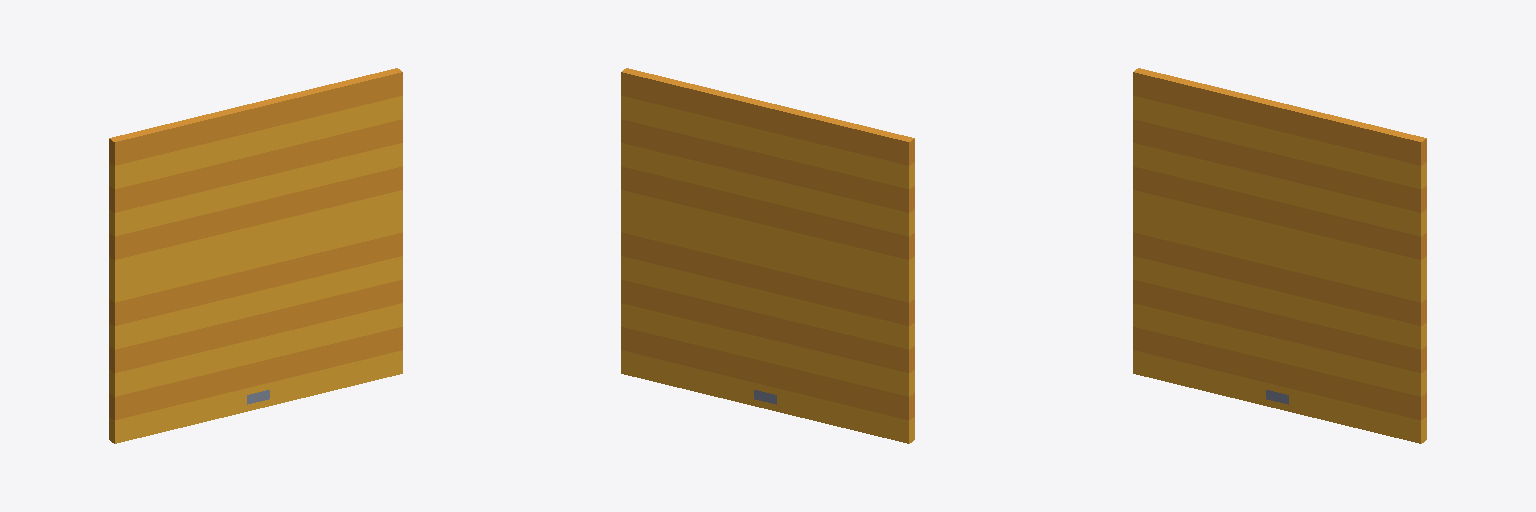
File: shutter.obj
3 views of the same model, side by side, from view 1: azimuth 30°, elevation 25°; view 2: azimuth 150°, elevation 25°; view 3: azimuth 330°, elevation 25° (orthographic).
Visible parts, largest first — view 1: door-wide-closed.001; view 2: door-wide-closed.001; view 3: door-wide-closed.001.
Part boxes in pixels (bbox=[...]): door-wide-closed.001: bbox=[109, 68, 402, 443]; door-wide-closed.001: bbox=[621, 68, 914, 443]; door-wide-closed.001: bbox=[1133, 68, 1426, 443].
Size of the model in its own units: 2.97 by 2.97 by 0.1.